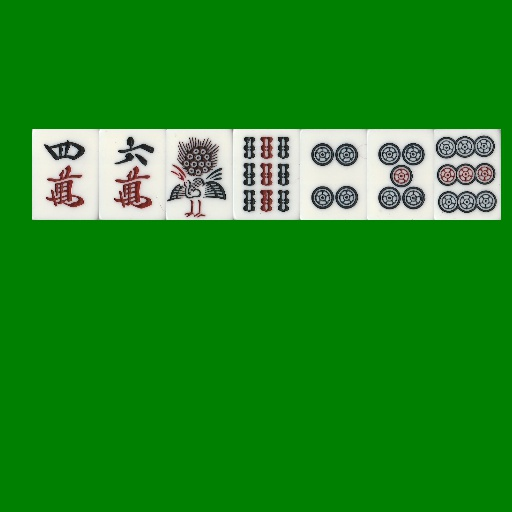1s: (166, 129, 233, 220)
4m: (32, 129, 99, 220)
4p: (300, 129, 367, 220)
5p: (367, 129, 434, 220)
6m: (99, 129, 166, 220)
9p: (434, 129, 501, 220)
9s: (233, 129, 300, 220)
